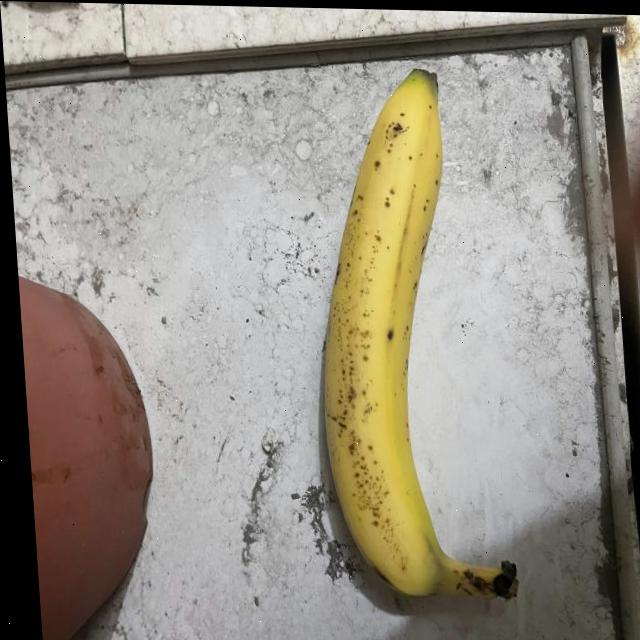banana: (296, 59, 526, 608)
